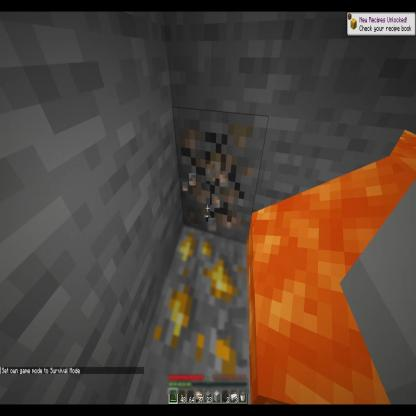gold ore: (149, 224, 249, 394)
iron ore: (172, 104, 274, 245)
